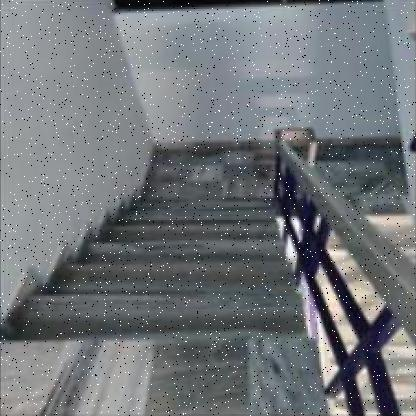stair_down: (12, 244, 284, 376)
